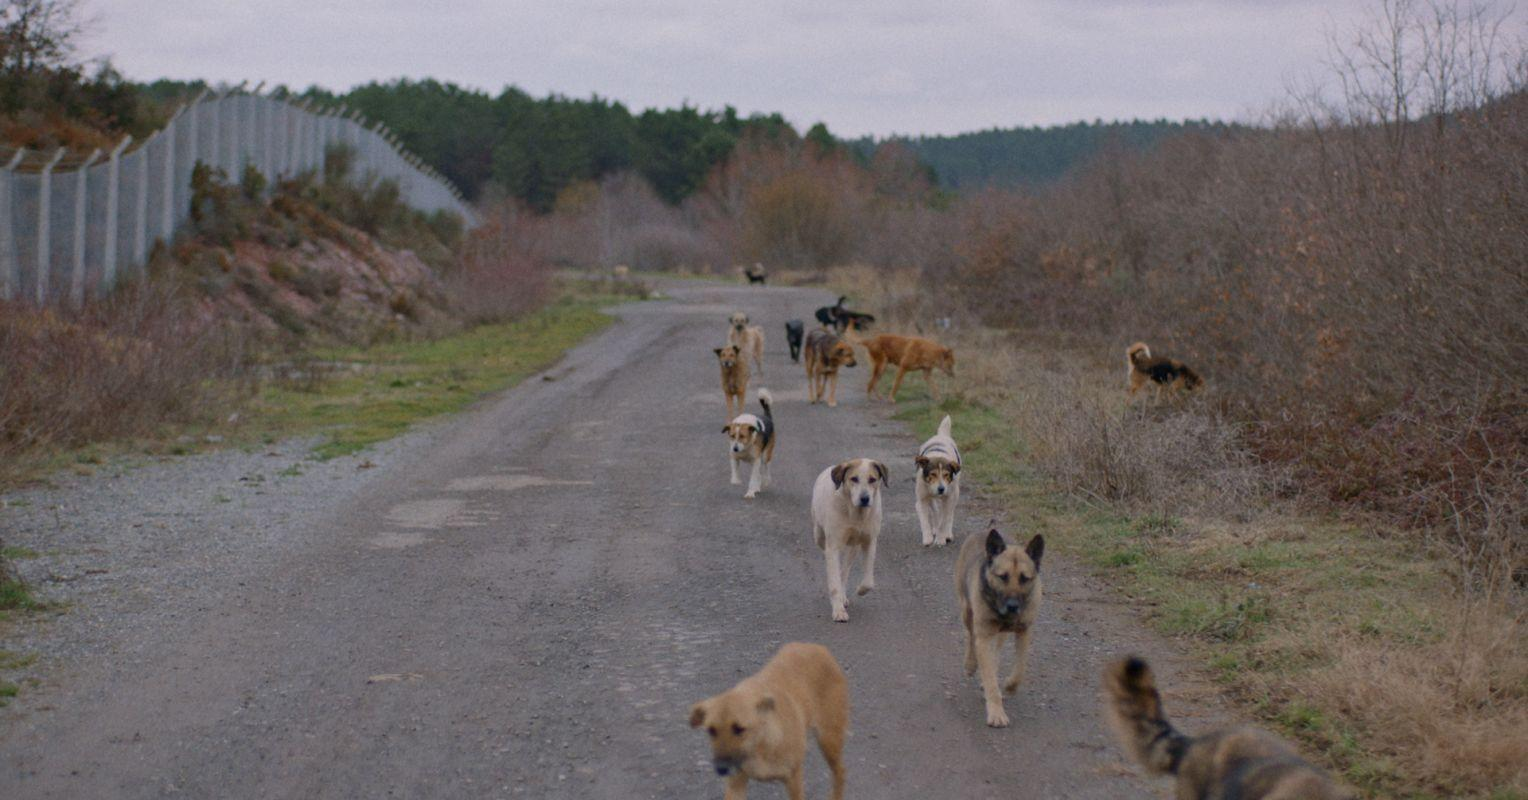normal_dogs: (1097, 647, 1368, 800), (692, 629, 861, 800), (948, 514, 1053, 735), (806, 445, 891, 628), (1117, 333, 1217, 421), (858, 336, 975, 411), (909, 411, 966, 547), (718, 395, 778, 510), (700, 332, 753, 420), (805, 323, 856, 410), (814, 285, 887, 340), (723, 304, 770, 374), (778, 310, 807, 364), (739, 262, 781, 297)
